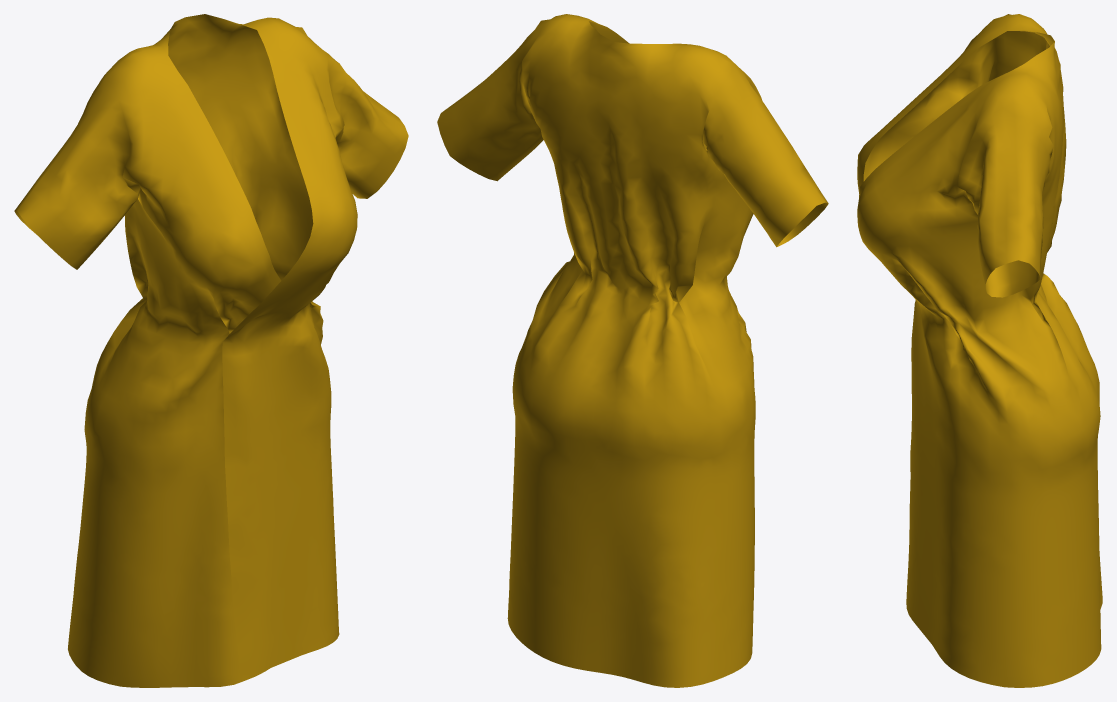
File: Bata.obj
3 views of the same model, side by side, from view 1: azimuth 30°, elevation 25°; view 2: azimuth 150°, elevation 25°; view 3: azimuth 270°, elevation 25° (orthographic). The views are drawn at different scales.
Size of the model in its own units: 0.654 by 1.01 by 0.3777.
